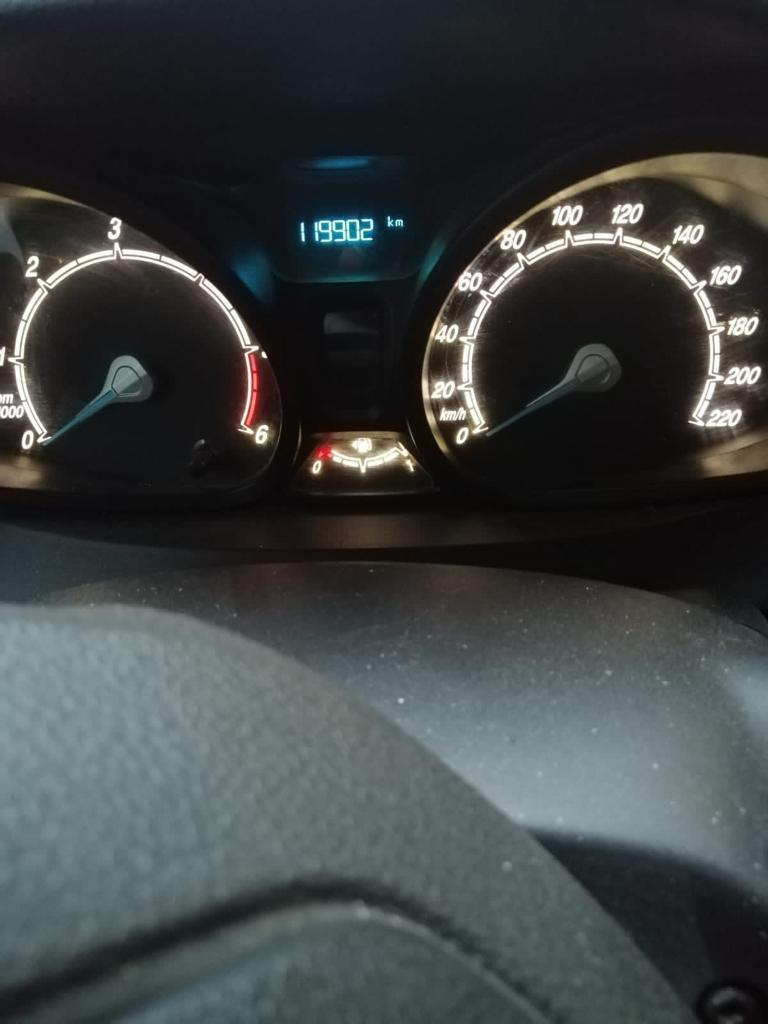0: (346, 217, 360, 243)
1: (296, 217, 307, 246), (312, 217, 318, 247)
2: (361, 215, 374, 245)
9: (332, 218, 345, 243), (318, 218, 331, 243)
X: (386, 214, 394, 228), (395, 218, 404, 228)
odometer: (289, 204, 411, 260)
